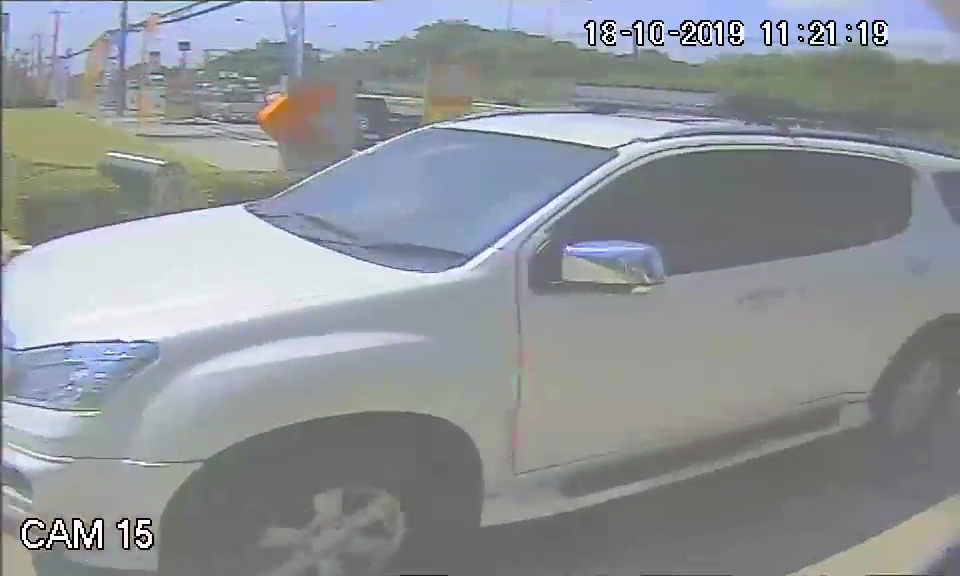pickup: (3, 104, 948, 532)
